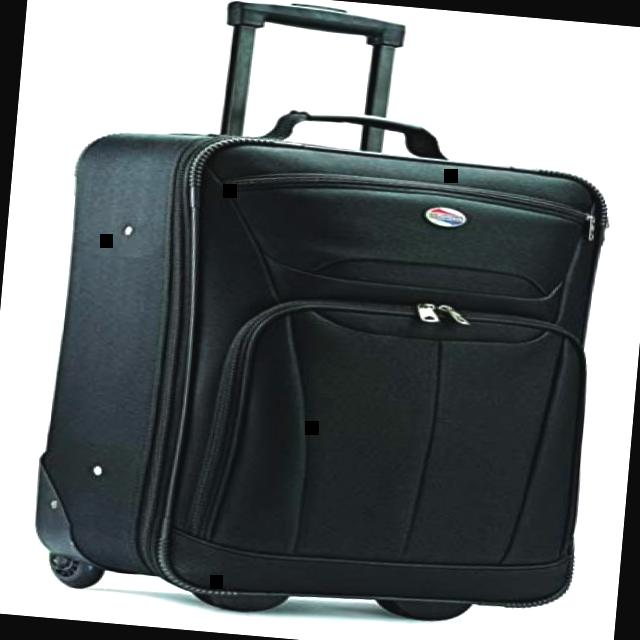luggage: (18, 106, 630, 635)
